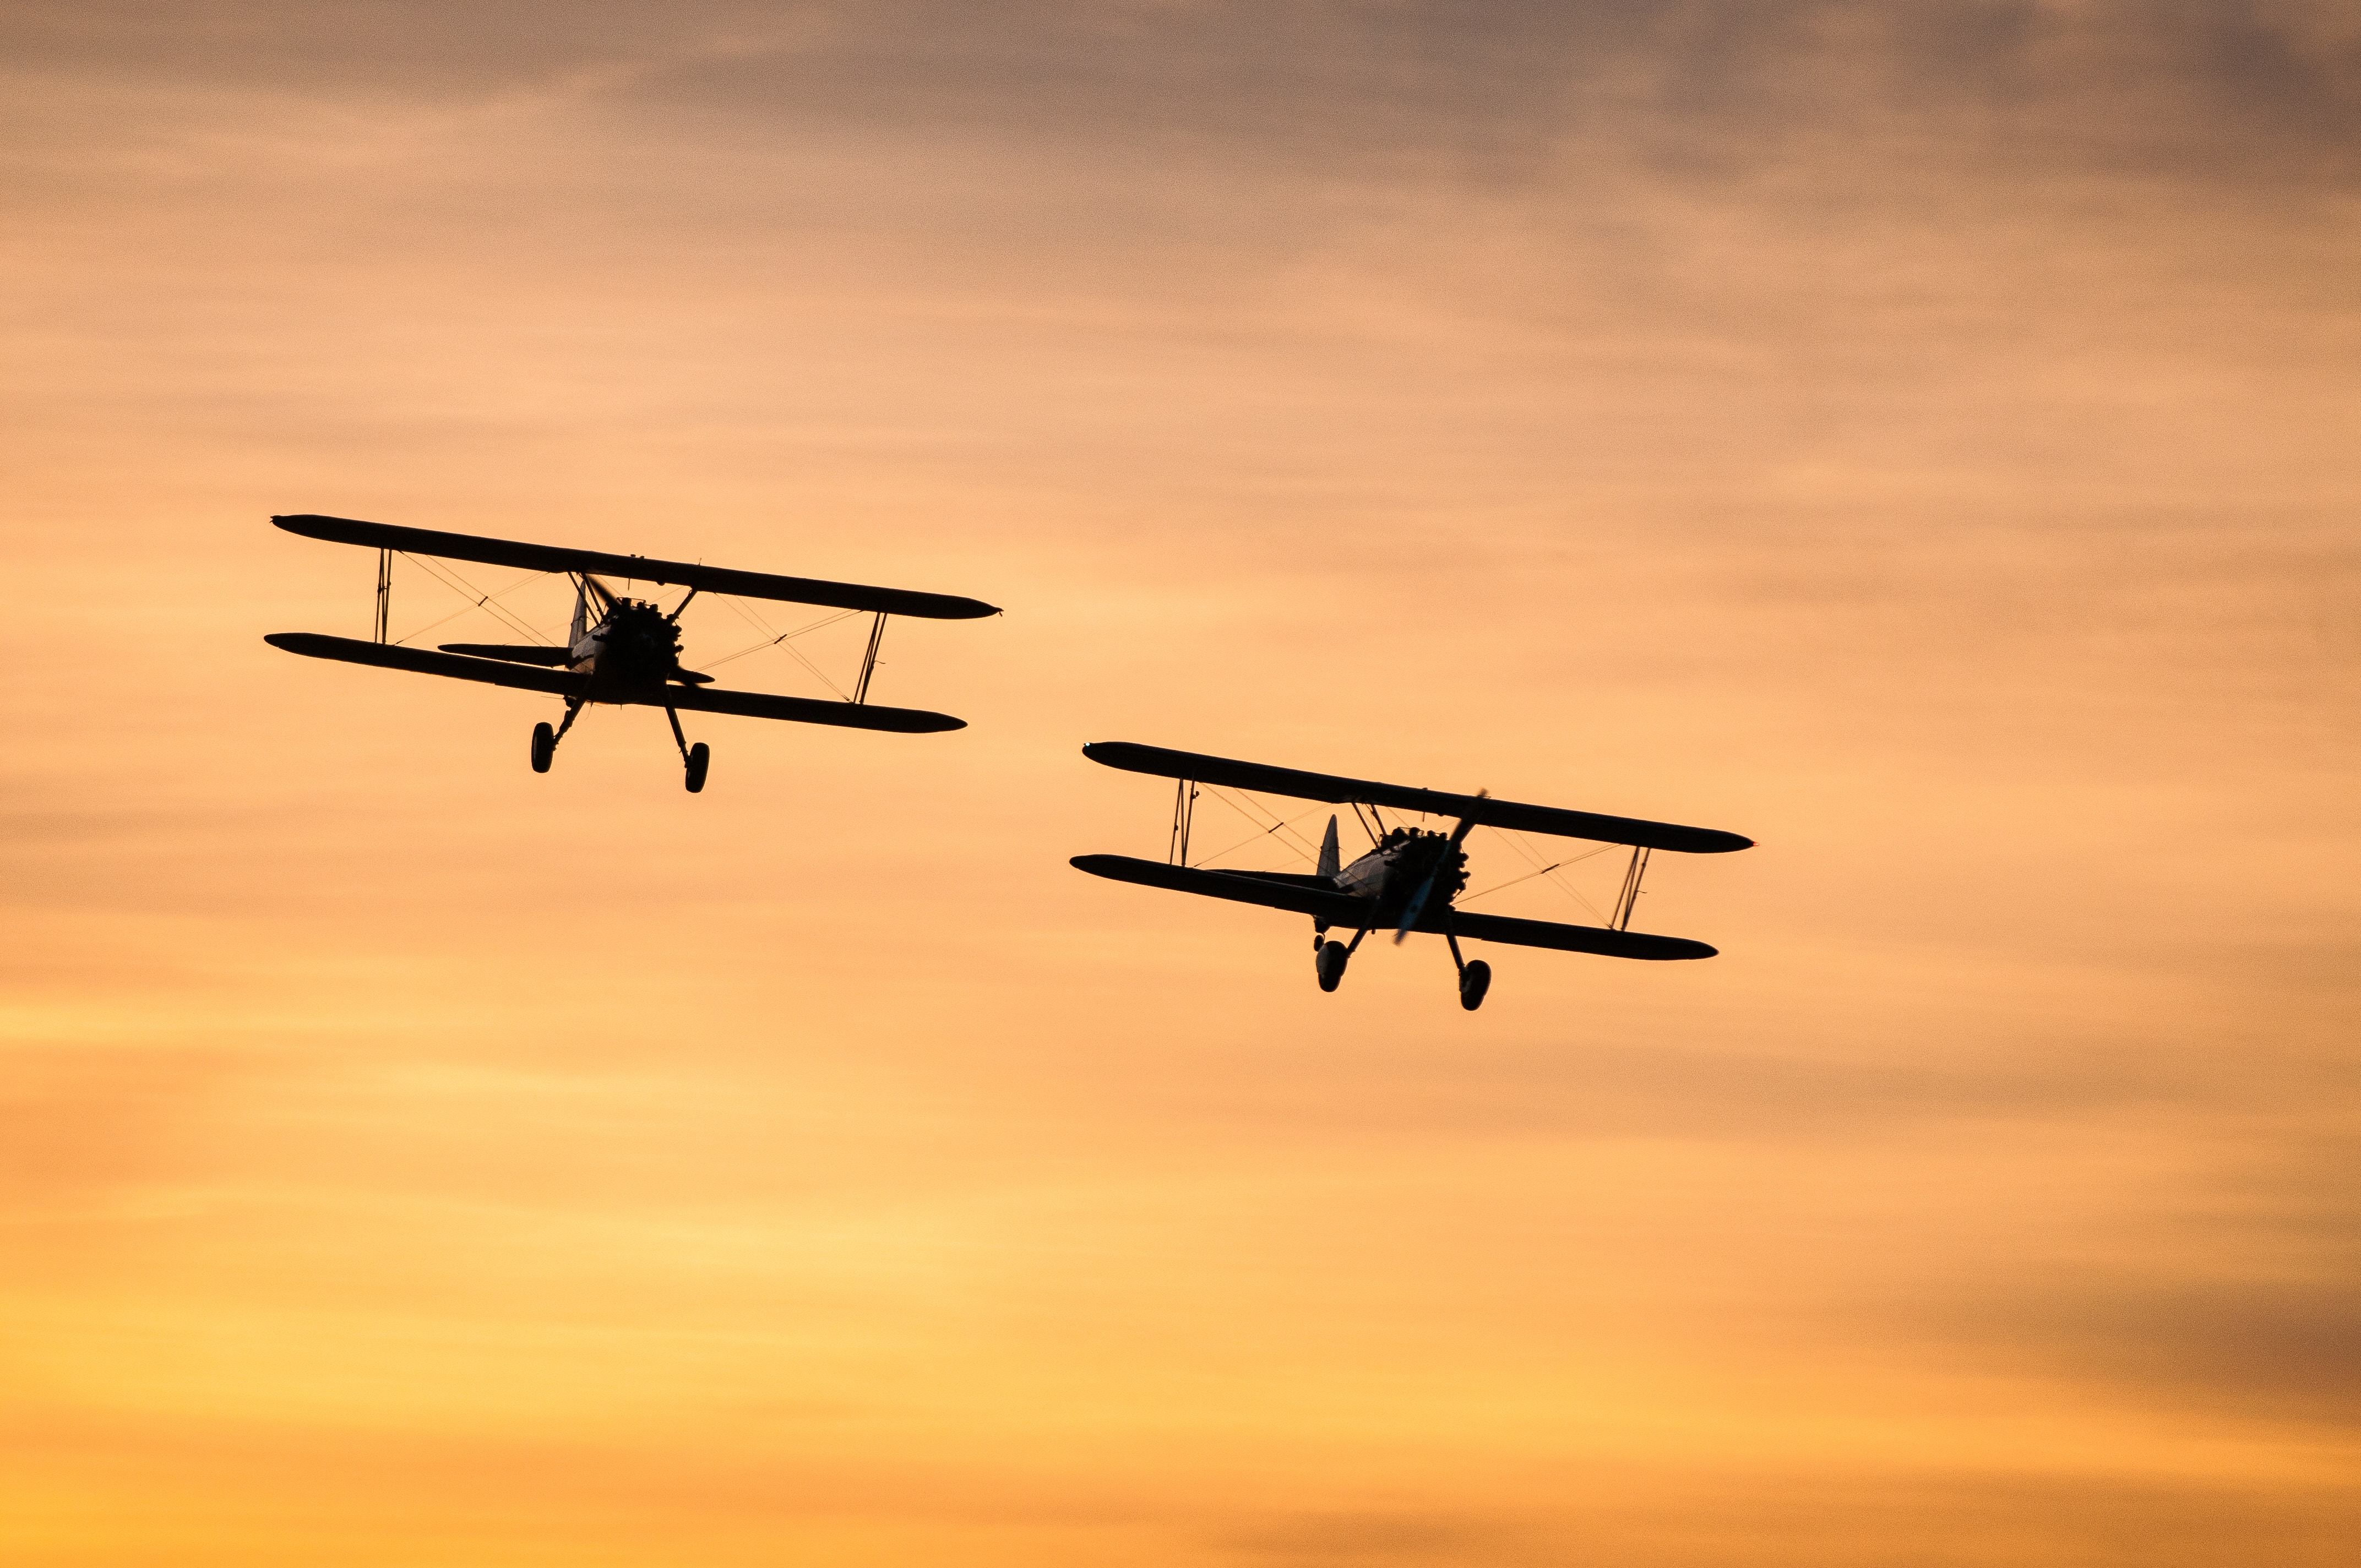airplane: (217, 346, 1073, 927)
